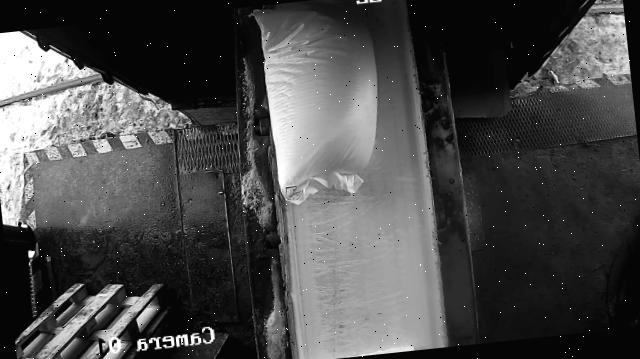bag: (251, 0, 388, 207)
